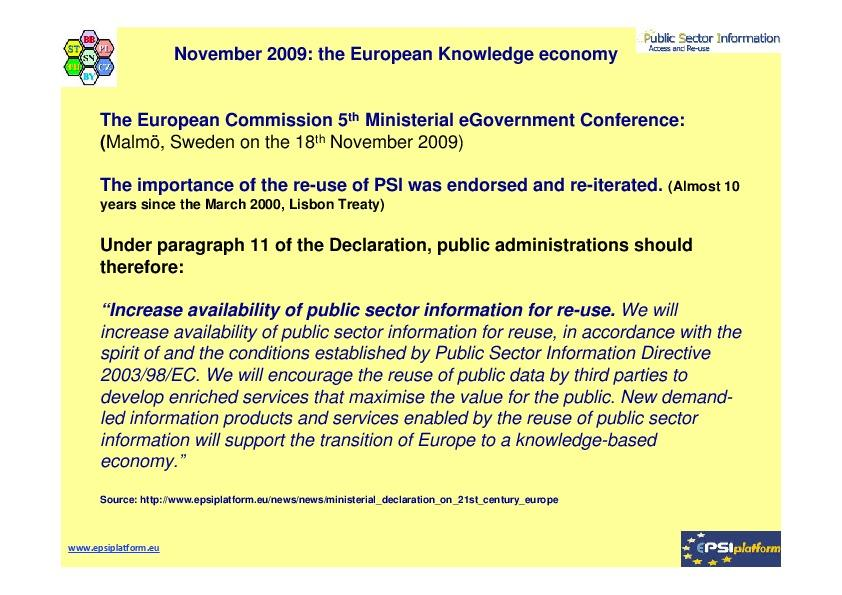paragraph: (86, 99, 766, 523)
subtitle: (62, 535, 176, 566)
title: (165, 37, 630, 77)
